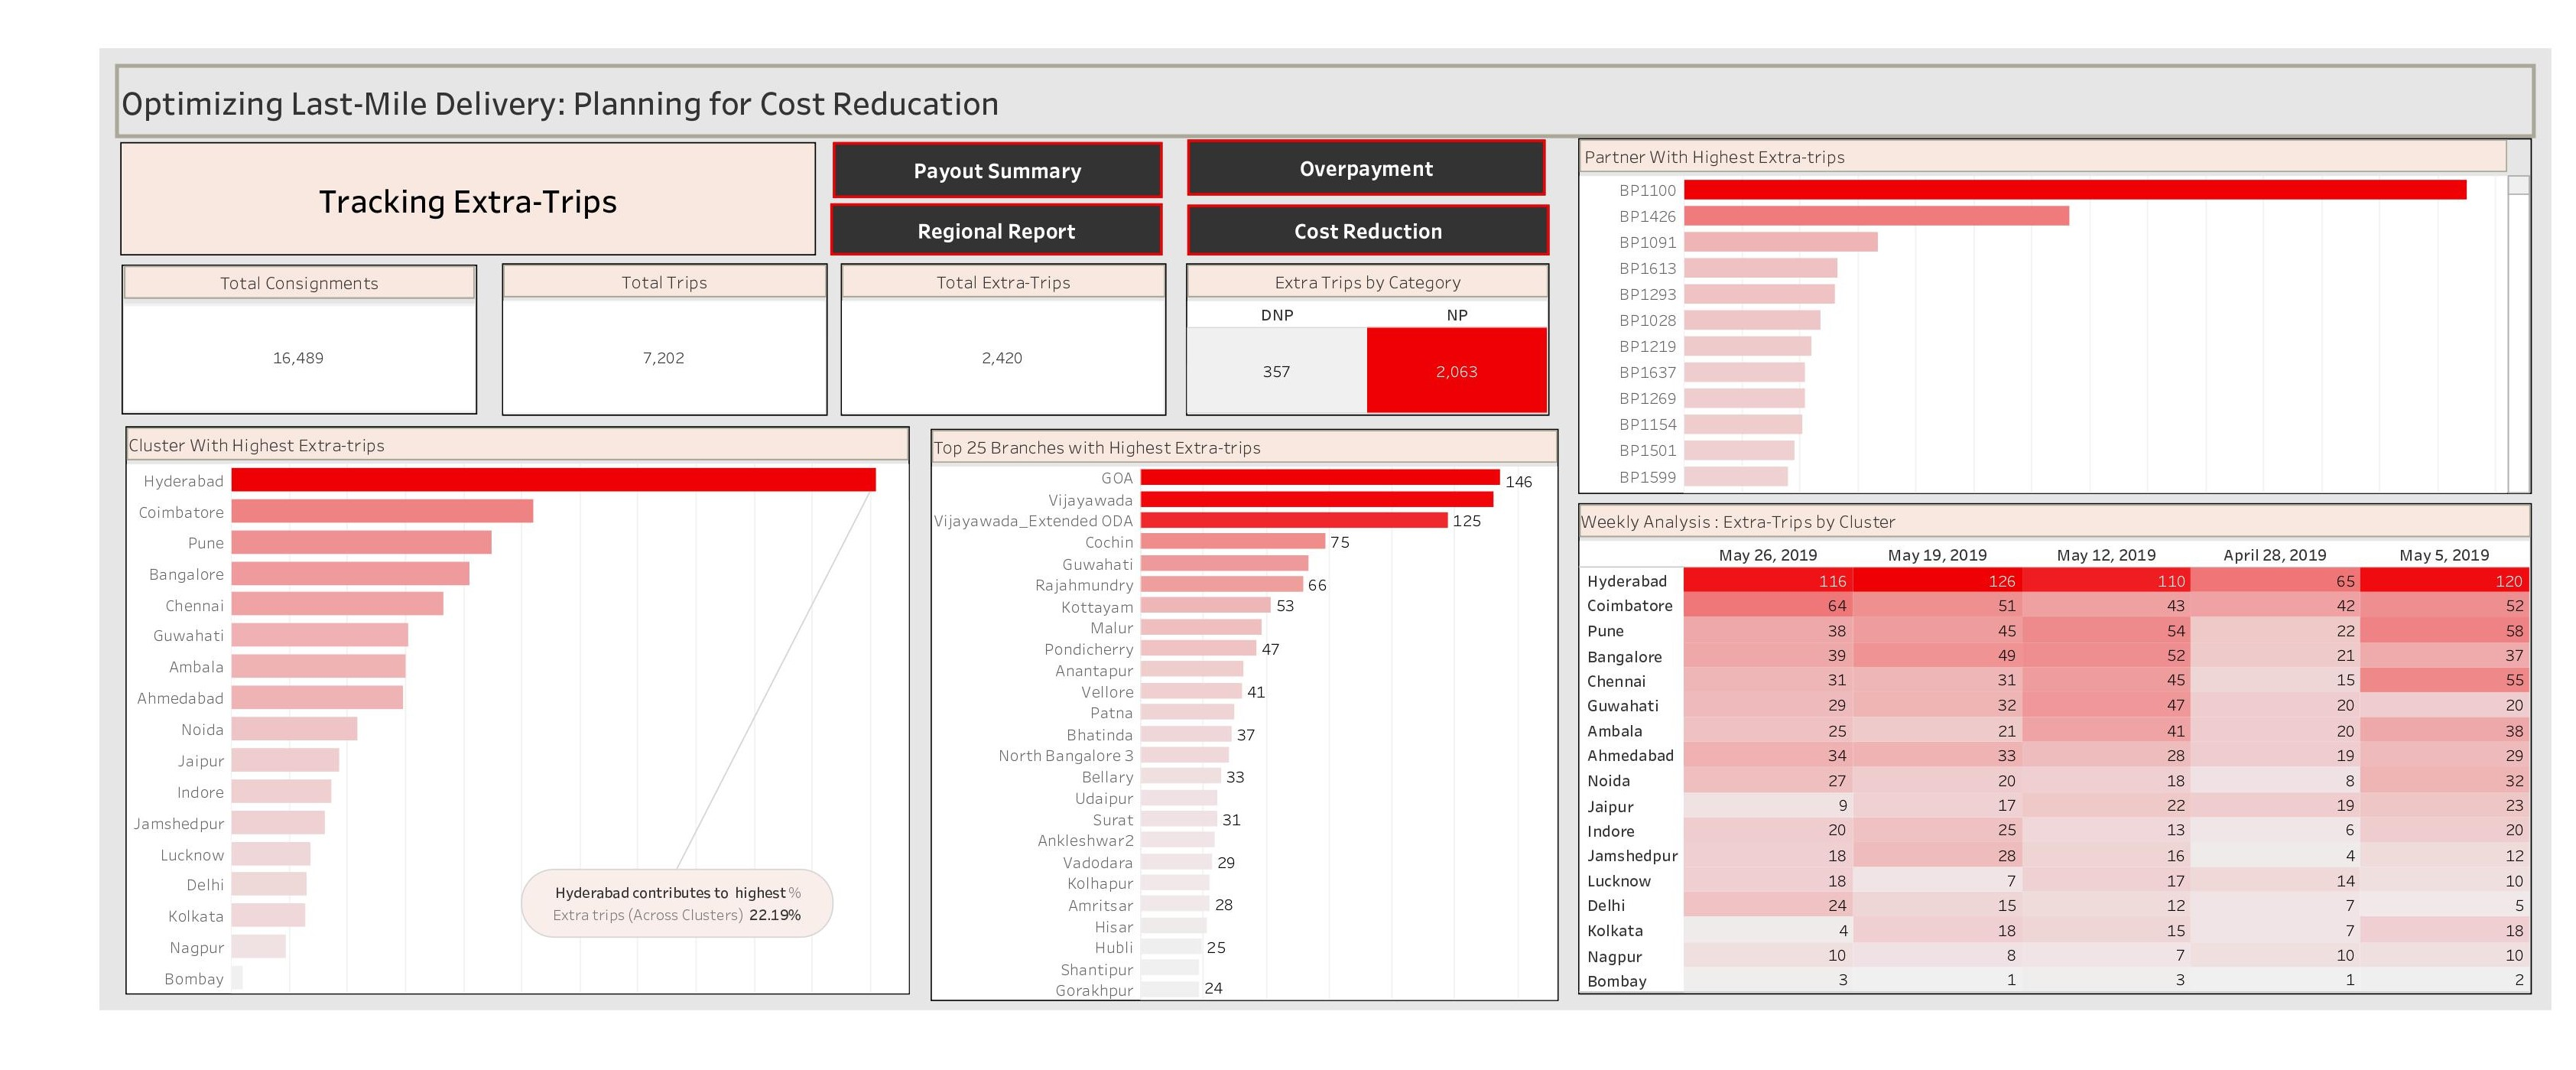

What the dashboard file says about the page in this screenshot:
{"tool":"tableau","page":{"name":"D1 : Extra-Trips Tracking Dashboard","canvas":[1000,1000],"units":"permille","ordinal":0},"visuals":[{"type":"title","box":[4.7,11.2,990.6,91.2]},{"type":"worksheet","title":" Partner With Highest Extra-trips","mark":"Automatic","rows":["bp_id (partners)"],"cols":["Calculation_1018657942305865748"],"box":[603.3,94,388.6,369.9]},{"type":"dashboard-object","box":[443.9,95.2,145.9,57.8]},{"type":"text","box":[8.7,97.6,283.4,118.1]},{"type":"dashboard-object","box":[298.9,97.6,134.9,57.8]},{"type":"dashboard-object","box":[298.3,161.5,135.5,54.2]},{"type":"dashboard-object","box":[443.9,162.7,147.8,53]},{"type":"worksheet","title":"Total Trips","mark":"Automatic","box":[164,224.1,132.8,157.8]},{"type":"worksheet","title":"Total Extra-Trips","mark":"Automatic","box":[302.4,224.1,132.8,157.8]},{"type":"worksheet","title":"Extra Trips by Category","mark":"Square","cols":["trip_category"],"box":[443.3,224.1,148.4,157.8]},{"type":"worksheet","title":"Total Consignments","mark":"Automatic","box":[9.3,225.3,144.8,155.4]},{"type":"worksheet","title":"Cluster With Highest Extra-trips","mark":"Automatic","rows":["cluster_name"],"cols":["Calculation_1018657942305865748"],"box":[10.5,392.8,319.9,591.6]},{"type":"worksheet","title":"Top 25 Branches with Highest Extra-trips","mark":"Automatic","rows":["branch_name"],"cols":["Calculation_1018657942305865748"],"box":[339.1,395.2,256.2,595.2]},{"type":"worksheet","title":"Weekly Analysis : Extra-Trips by Cluster","mark":"Square","rows":["cluster_name"],"cols":["dispatch_date"],"box":[603.3,473.5,388.6,509.6]}]}

Visuals, with their boxes on the dashboard's canvas, which has no fixed pixel size, in thousandths of its width and height (x1, y1, x2, y2). These are canvas units, not pixel positions in the 2576x1070 screenshot, which may show the page scaled, cropped or inside an application window:
title: box(5, 11, 995, 102)
" Partner With Highest Extra-trips" worksheet: box(603, 94, 992, 464)
dashboard-object: box(444, 95, 590, 153)
text: box(9, 98, 292, 216)
dashboard-object: box(299, 98, 434, 155)
dashboard-object: box(298, 162, 434, 216)
dashboard-object: box(444, 163, 592, 216)
"Total Trips" worksheet: box(164, 224, 297, 382)
"Total Extra-Trips" worksheet: box(302, 224, 435, 382)
"Extra Trips by Category" worksheet (Square marks): box(443, 224, 592, 382)
"Total Consignments" worksheet: box(9, 225, 154, 381)
"Cluster With Highest Extra-trips" worksheet: box(10, 393, 330, 984)
"Top 25 Branches with Highest Extra-trips" worksheet: box(339, 395, 595, 990)
"Weekly Analysis : Extra-Trips by Cluster" worksheet (Square marks): box(603, 474, 992, 983)
